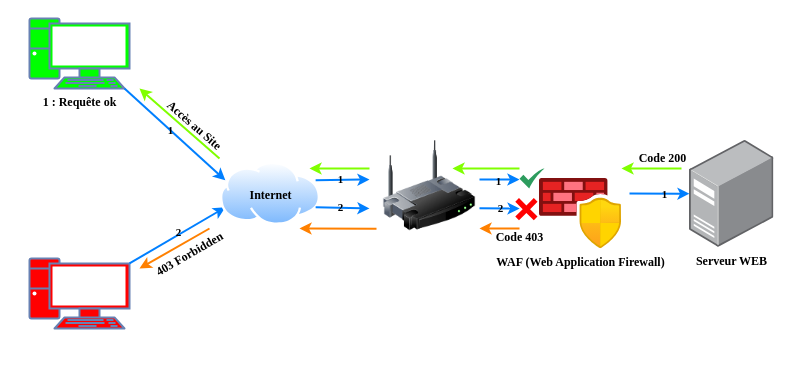
This 791x366 diagram has some shape labels left out. Here are the shapes that lost their labels. From the top down, the centre of each, then its label:
the point at 429,185: Box internet
the point at 79,293: 2 : Requête malveillante
